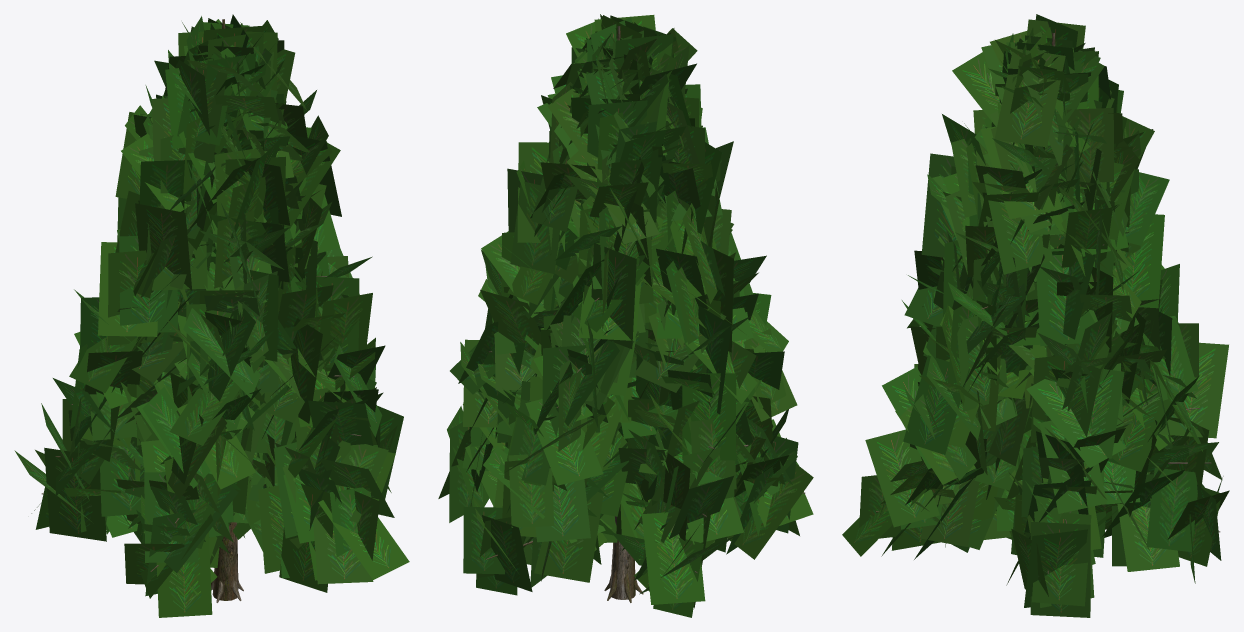
The model's file is pine-hero.gltf.
3 renders of one model, left to right at view 1: azimuth 30°, elevation 25°; view 2: azimuth 150°, elevation 25°; view 3: azimuth 270°, elevation 25°, orthographic. The views are drawn at different scales.
Size of the model in its own units: 0.5921 by 1 by 0.6245.
Materials: 2 (2 with a texture image).
